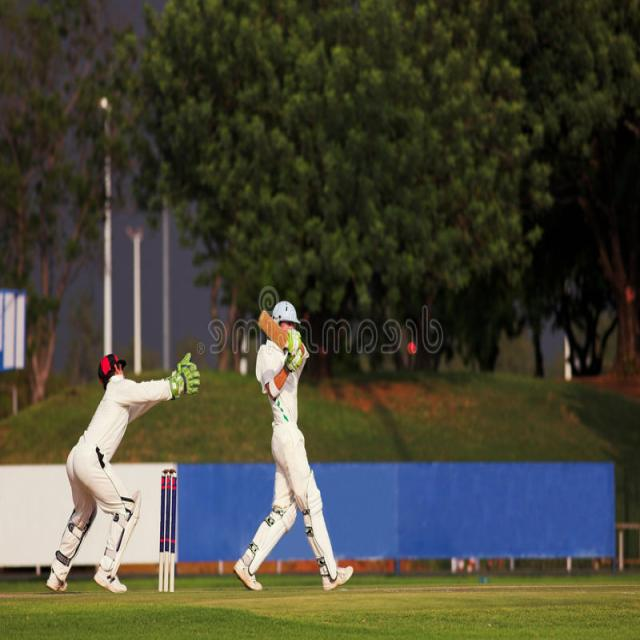stump: (155, 467, 179, 594)
